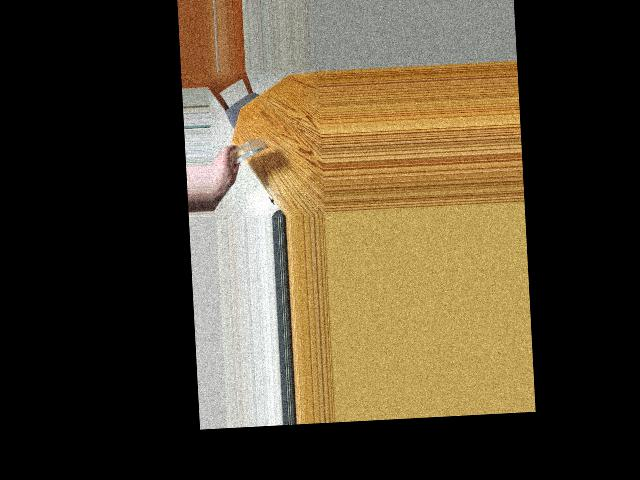cheese: (222, 137, 270, 164)
